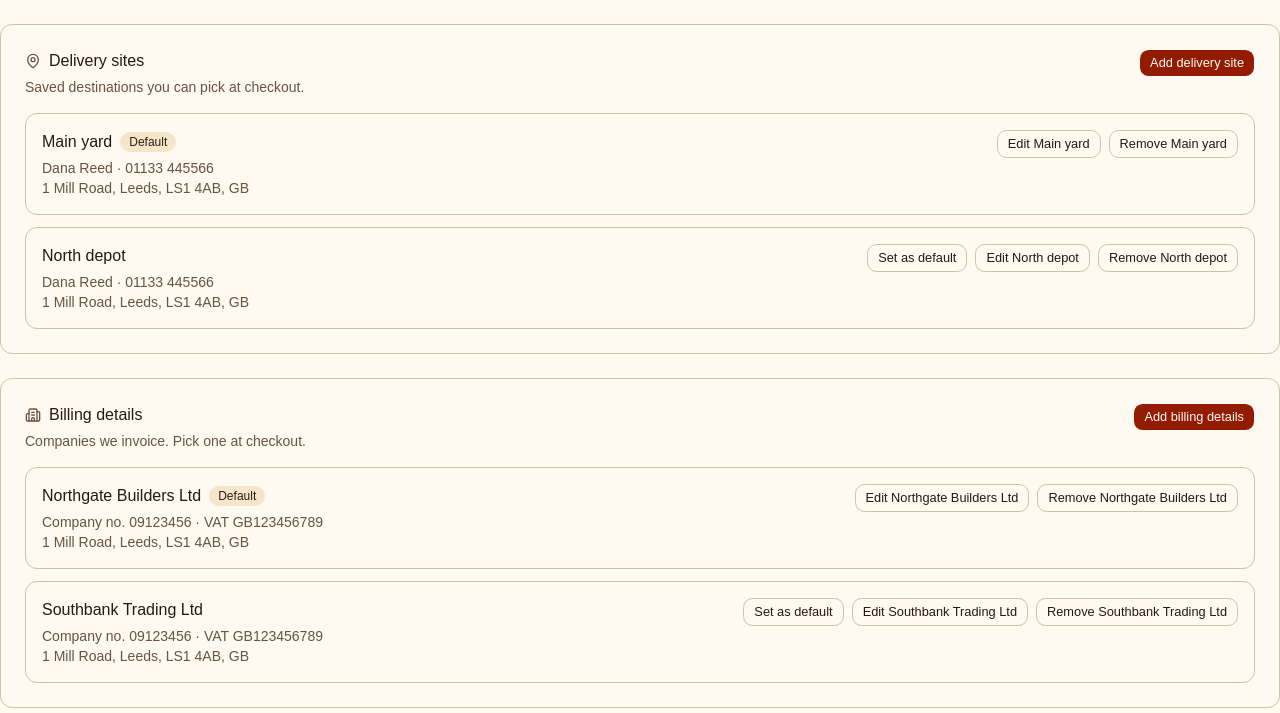
it: BillingEntitiesSection › reports field validation messages and sends no request
What coordinates should you click on to do the following:
click the button "Add billing details"
I would click on:
 (1194, 417)
Its box is [1133,403,1255,431].
(page scrolled)
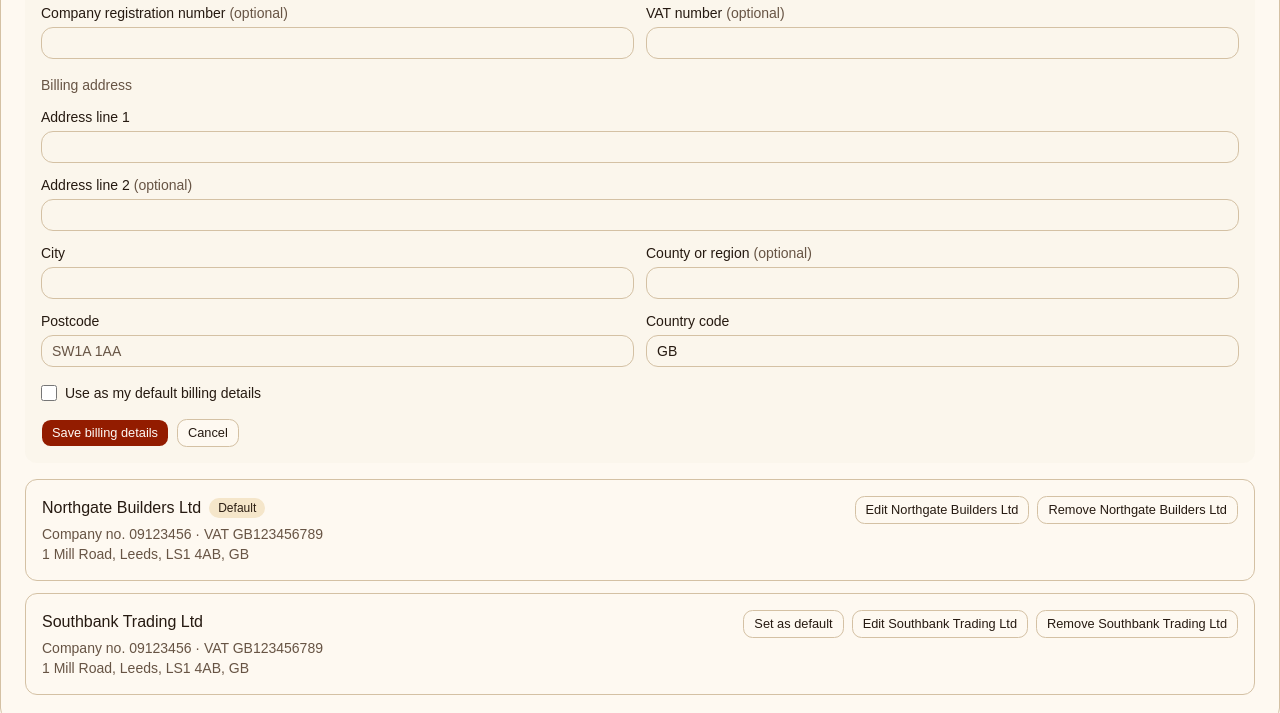
What coordinates should you click on to do the following:
click the button "Save billing details"
I would click on:
 (105, 433)
Its box is [41,419,169,447].
(page scrolled)
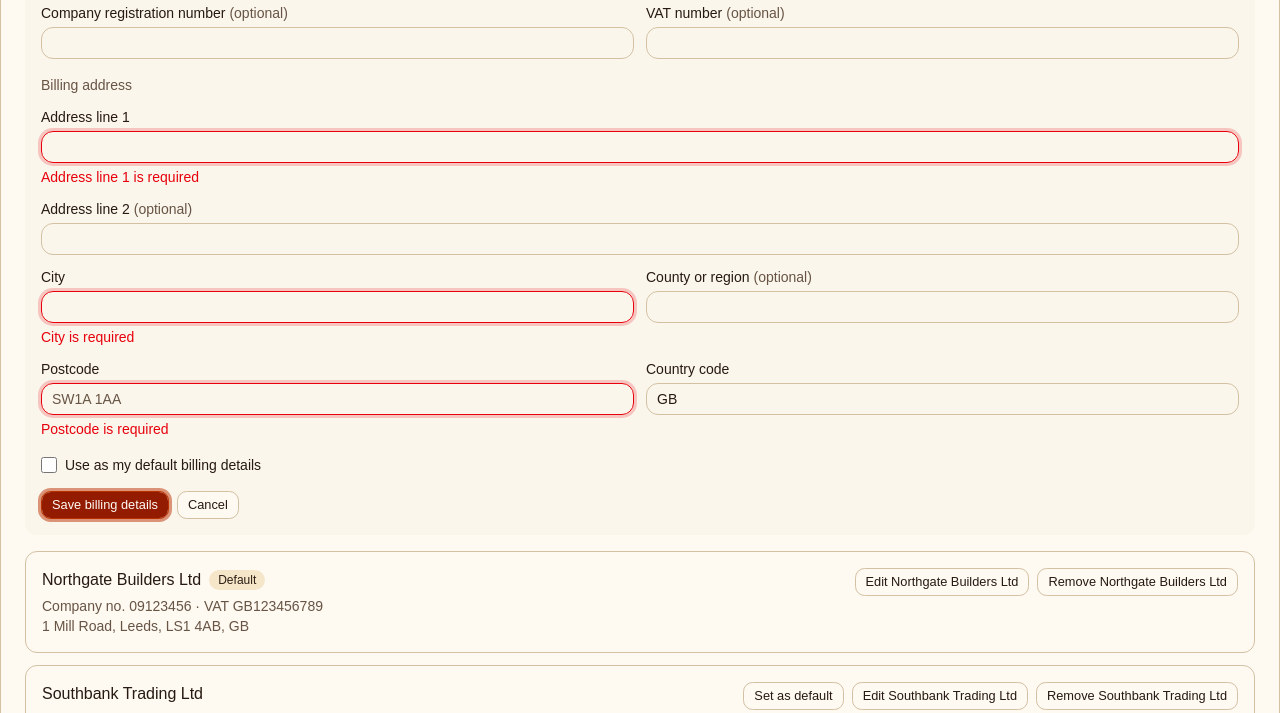
Expected: the text "Address line 1 is required" is shown, [41,169,199,185]
